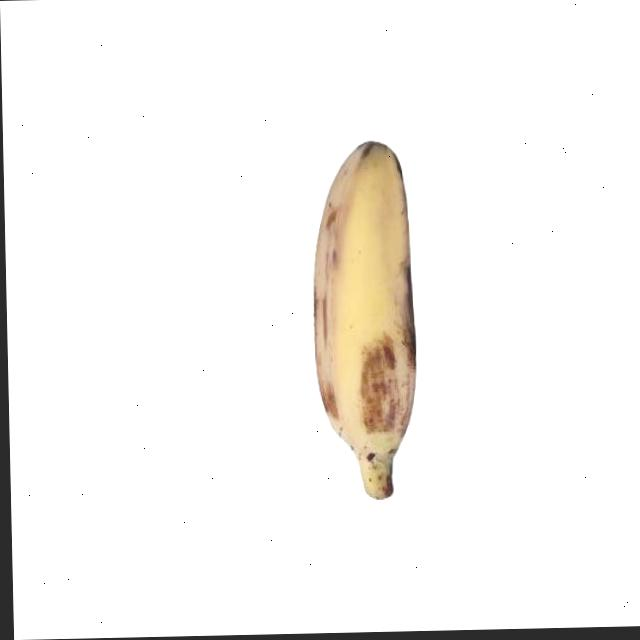banana: (303, 134, 425, 508)
